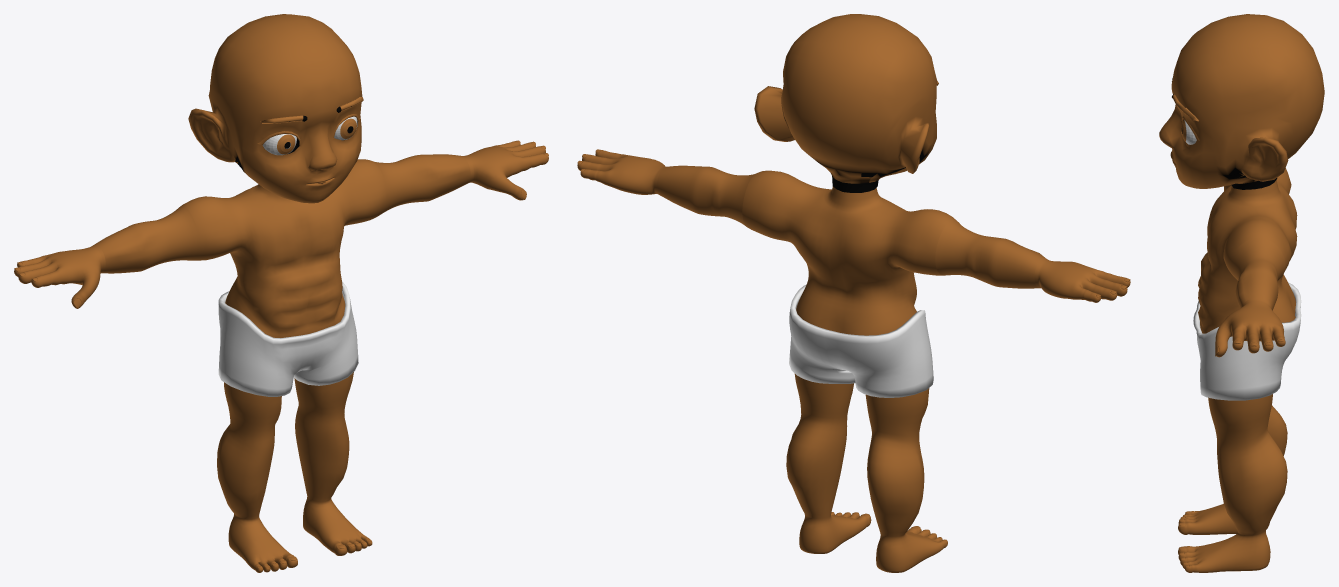
File: Joah-Joah.fbx
3 renders of one model, left to right at view 1: azimuth 30°, elevation 25°; view 2: azimuth 150°, elevation 25°; view 3: azimuth 270°, elevation 25°, orthographic. The views are drawn at different scales.
Visible parts, largest first — view 1: body, Head, Dipper; view 2: body, Head, Dipper; view 3: body, Head, Dipper.
Boxes of the visible parts, left/top/right/bottom form: body: left=14, top=140, right=548, bottom=572; Head: left=188, top=14, right=362, bottom=203; Dipper: left=218, top=281, right=358, bottom=396; body: left=577, top=149, right=1130, bottom=572; Head: left=754, top=14, right=936, bottom=192; Dipper: left=789, top=284, right=933, bottom=397; body: left=1178, top=168, right=1297, bottom=572; Head: left=1159, top=14, right=1324, bottom=189; Dipper: left=1193, top=282, right=1301, bottom=400.
Bounding box in the file's own units: 236 × 222 × 63.6.
